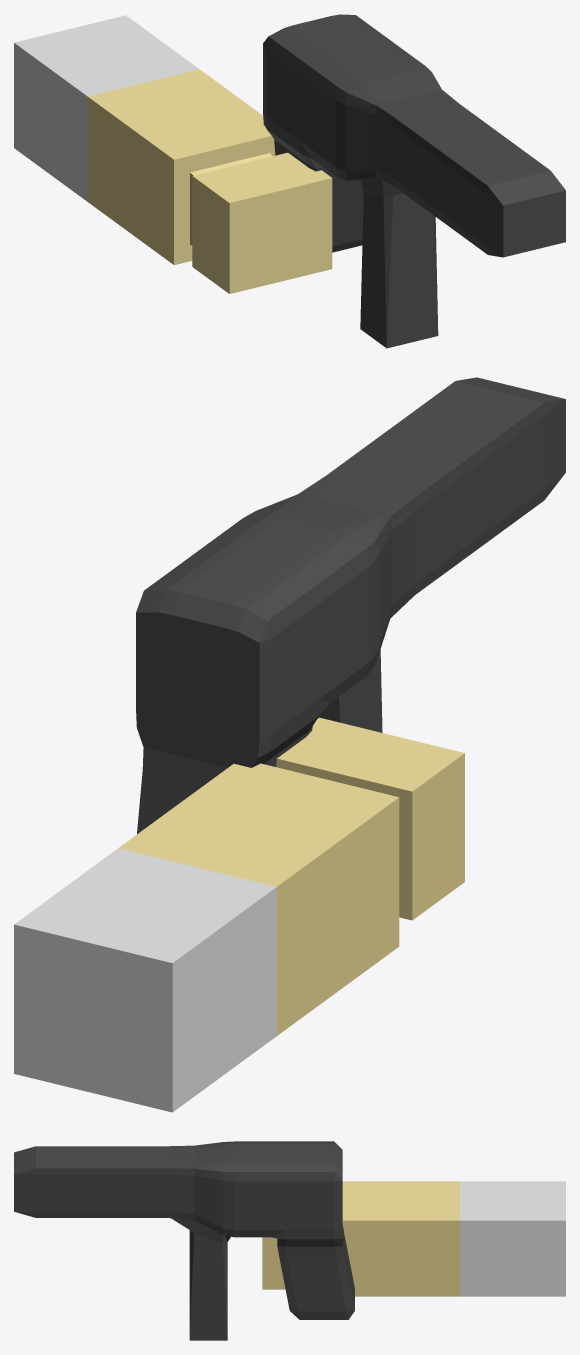
File: uzi2.obj
3 renders of one model, top to bottom at view 1: azimuth 30°, elevation 25°; view 2: azimuth 150°, elevation 25°; view 3: azimuth 270°, elevation 25°, orthographic. The views are drawn at different scales.
Parts seen in each view (by area): view 1: cube5, cube3; view 2: cube5, cube3; view 3: cube3, cube5.
Part boxes in pixels (x1,y1,x2,y2): cube5: (14, 15, 332, 293); cube3: (263, 14, 565, 348); cube5: (14, 717, 464, 1112); cube3: (136, 377, 565, 833); cube3: (14, 1141, 354, 1340); cube5: (262, 1181, 565, 1296).
Bounding box in the file's own units: 13.12 × 16.93 × 47.46.
3 materials, 3 textured.
